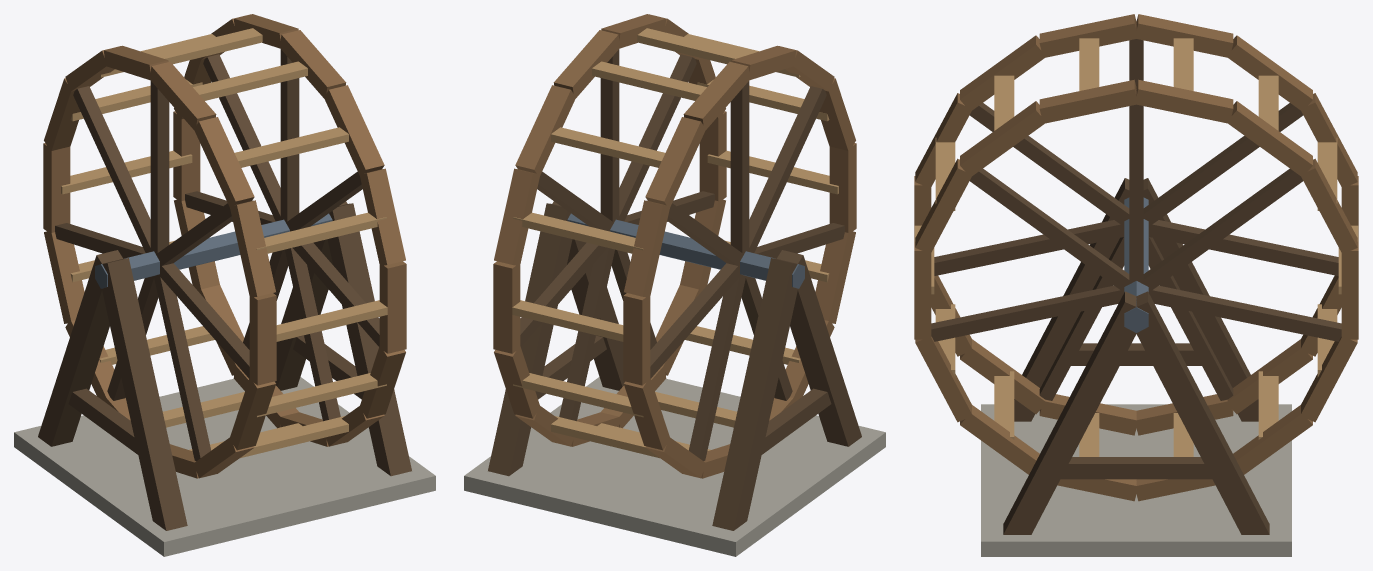
The model's file is quay-treadwheel.glb.
3 renders of one model, left to right at view 1: azimuth 30°, elevation 25°; view 2: azimuth 150°, elevation 25°; view 3: azimuth 270°, elevation 25°, orthographic. The views are drawn at different scales.
Visible parts, largest first — view 1: quay-treadwheel; view 2: quay-treadwheel; view 3: quay-treadwheel.
Part boxes in pixels (x1,y1,x2,y2): quay-treadwheel: [14, 14, 435, 556]; quay-treadwheel: [464, 14, 885, 556]; quay-treadwheel: [914, 14, 1358, 556].
Size of the model in its own units: 2.3 by 3.45 by 3.14.
Materials: 1 (1 with a texture image).
